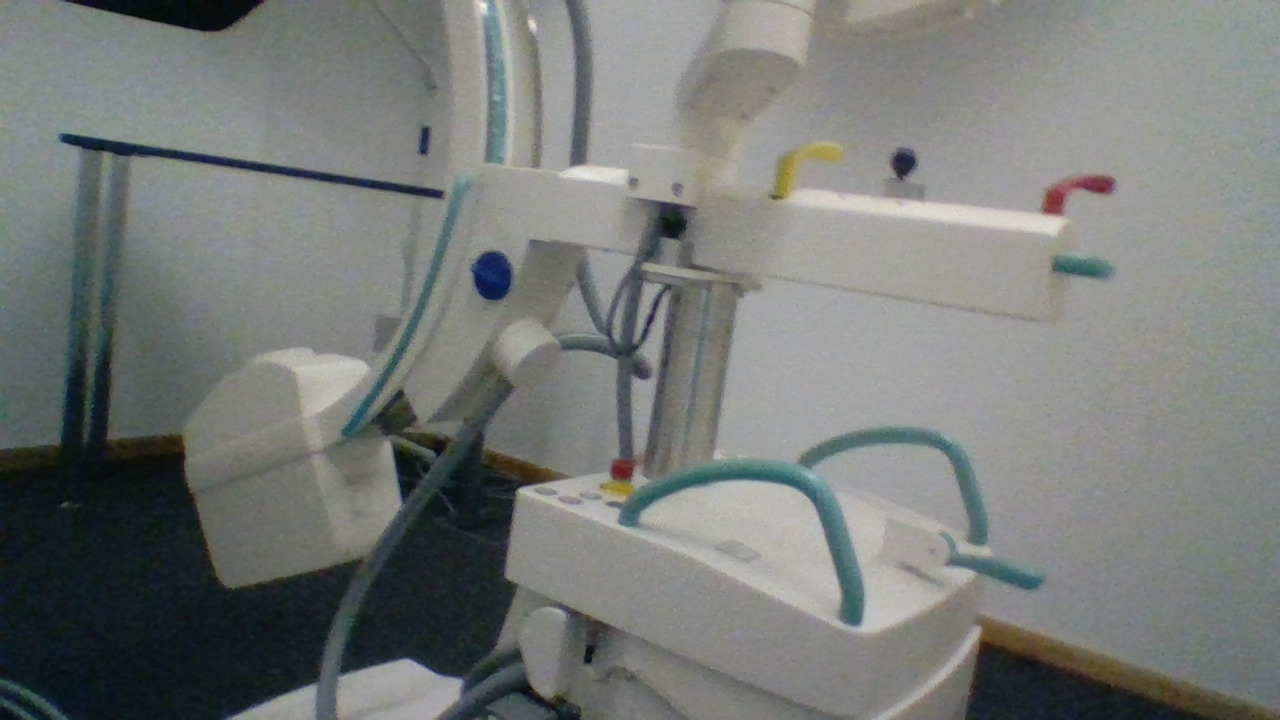carmBACK: (882, 515, 1044, 589)
carmDOWN: (181, 346, 378, 471)
carmLOCK: (469, 247, 515, 302)
